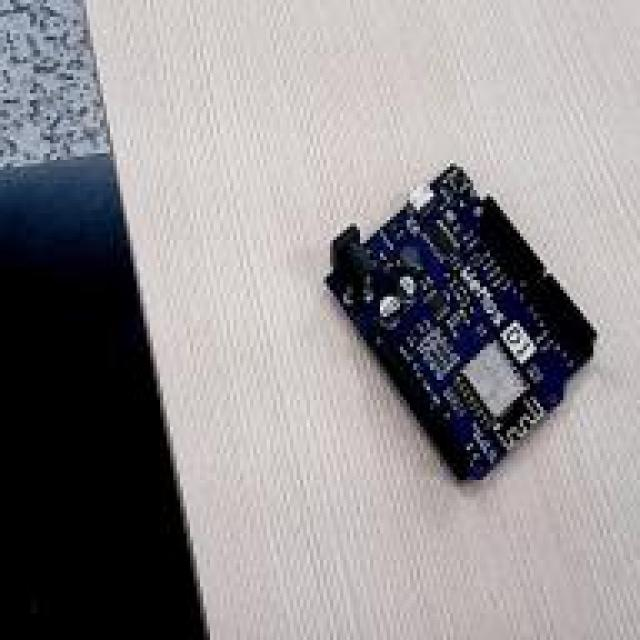Wemos: (328, 164, 594, 478)
